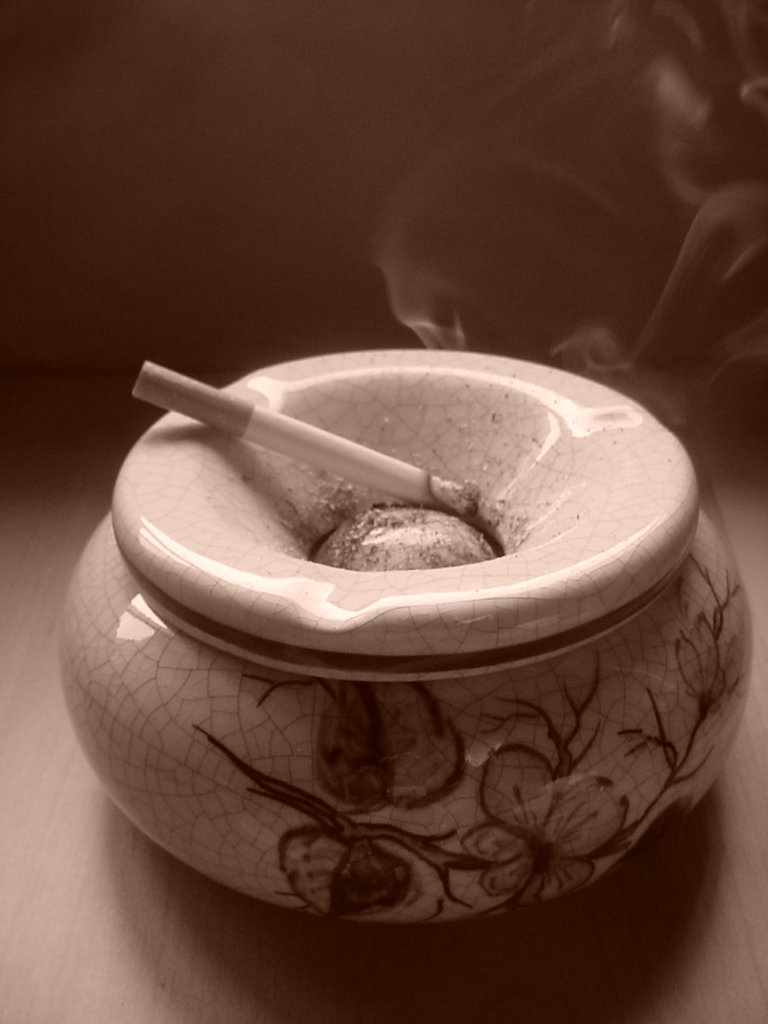cigarette: (131, 359, 488, 516)
